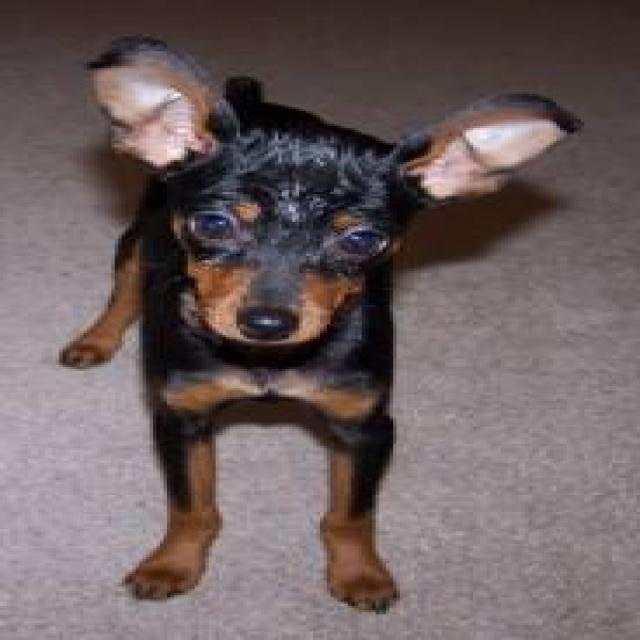dog-miniature_pinscher: (49, 30, 588, 623)
